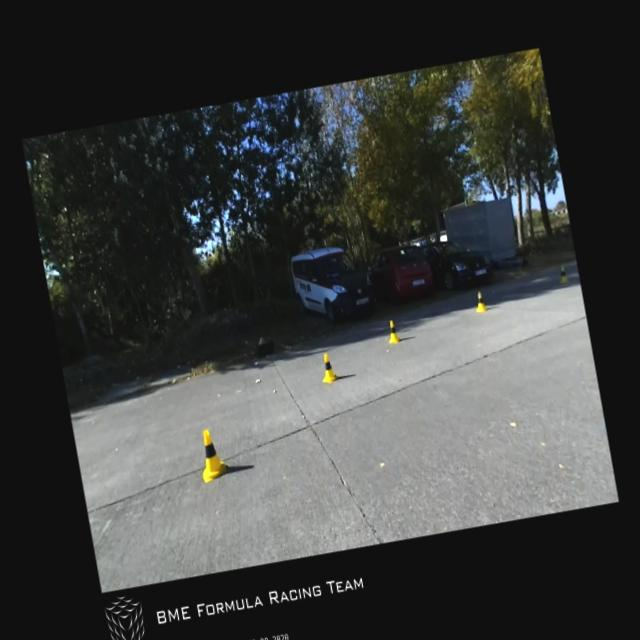yellow_cone: (195, 426, 230, 484), (318, 352, 340, 384), (385, 318, 400, 344), (472, 289, 488, 313), (557, 264, 568, 282)
